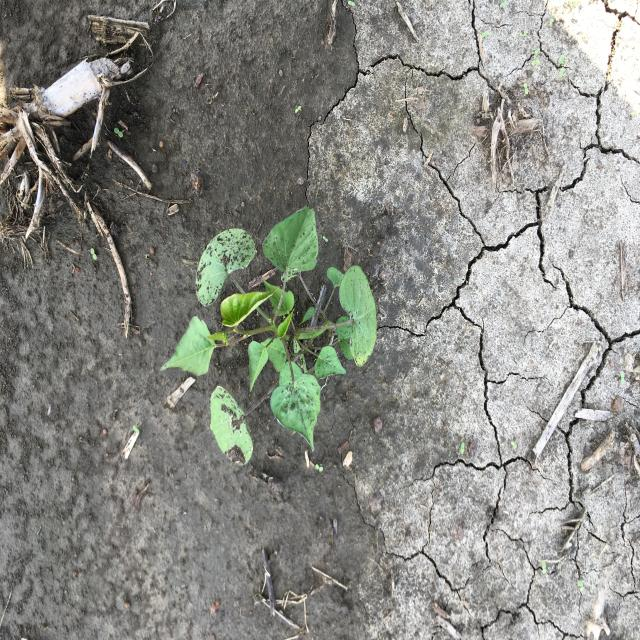MorningGlory: (158, 203, 378, 469)
